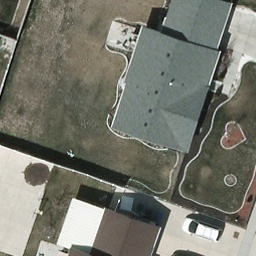car: (180, 217, 223, 245)
